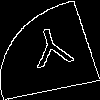Y: (25, 24, 79, 78)
